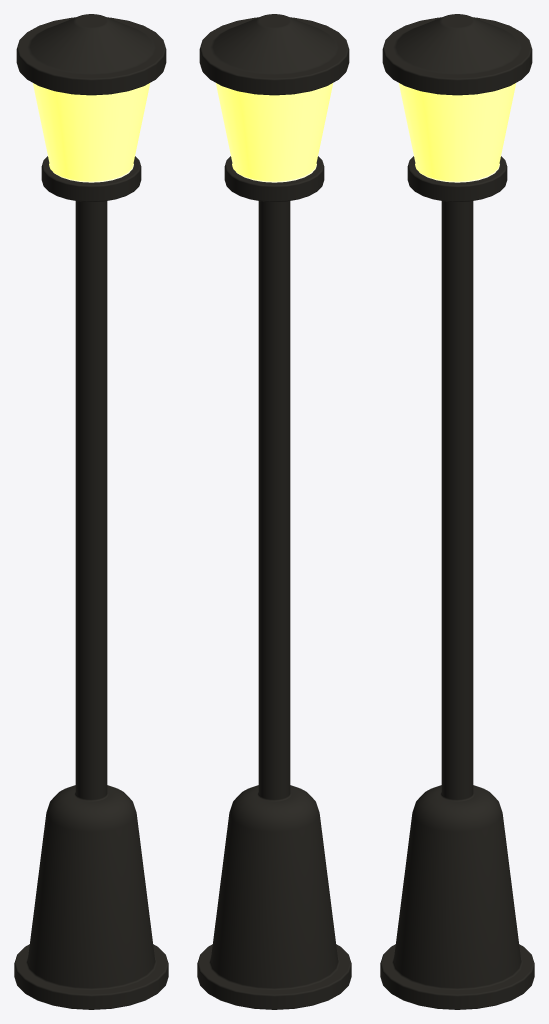
File: light_pole.glb
3 renders of one model, left to right at view 1: azimuth 30°, elevation 25°; view 2: azimuth 150°, elevation 25°; view 3: azimuth 270°, elevation 25°, orthographic.
Visible parts, largest first — view 1: Circle; view 2: Circle; view 3: Circle.
Part boxes in pixels (bbox=[...]): Circle: bbox=[14, 14, 168, 1009]; Circle: bbox=[197, 14, 351, 1009]; Circle: bbox=[380, 14, 534, 1009].
Bounding box in the file's own units: 0.9502 × 6.49 × 0.9502.
